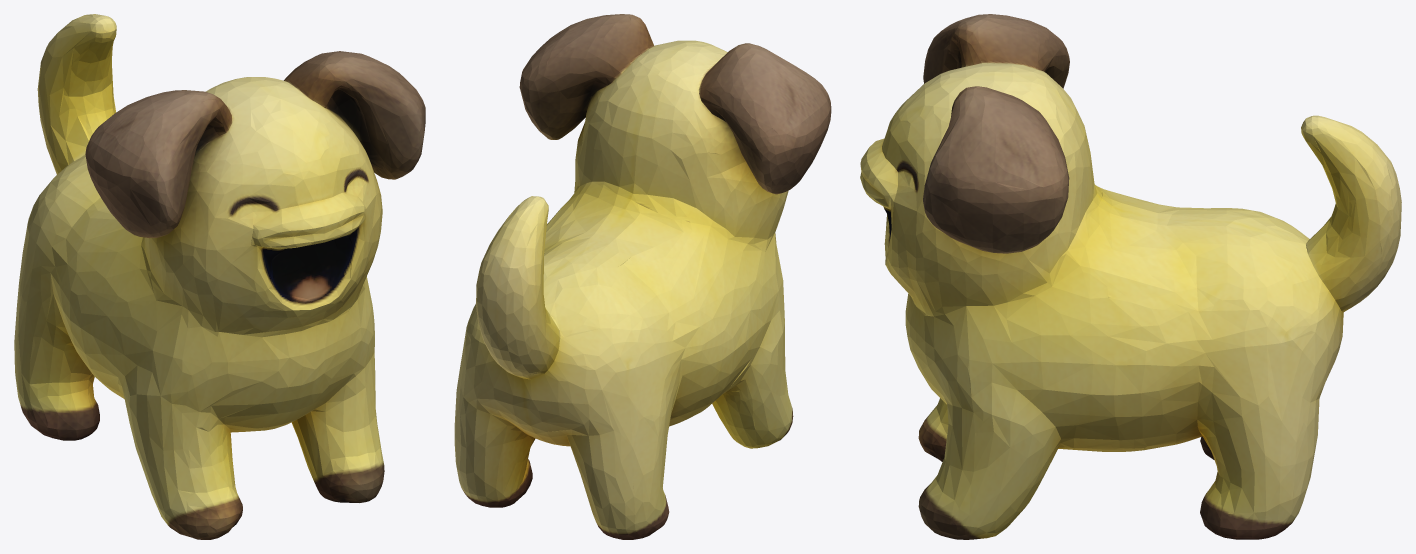
File: dog.glb
The picture shows the model from 3 angles, left to right: view 1: azimuth 30°, elevation 25°; view 2: azimuth 150°, elevation 25°; view 3: azimuth 270°, elevation 25°; orthographic projection. The views are drawn at different scales.
Visible parts, largest first — view 1: geometry_0; view 2: geometry_0; view 3: geometry_0.
Part boxes in pixels (x1,y1,x2,y2): geometry_0: [14, 14, 425, 539]; geometry_0: [454, 14, 831, 539]; geometry_0: [860, 14, 1401, 539].
Bounding box in the file's own units: 0.056 × 0.075 × 0.0832.
1 material, 1 textured.
